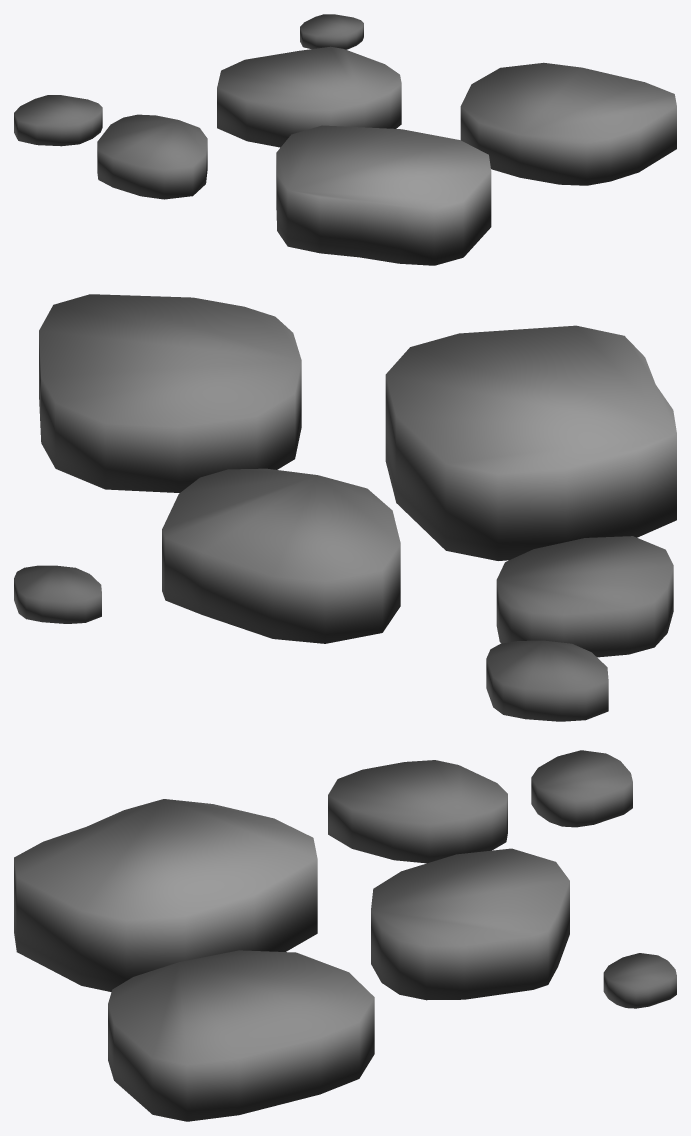
The model's file is obj_PathStraight2Grey.fbx.
3 renders of one model, top to bottom at view 1: azimuth 30°, elevation 25°; view 2: azimuth 150°, elevation 25°; view 3: azimuth 270°, elevation 25°, orthographic. The views are drawn at different scales.
Visible parts, largest first — view 1: obj_PathStraight2Grey; view 2: obj_PathStraight2Grey; view 3: obj_PathStraight2Grey.
Boxes of the visible parts, x1=… form: obj_PathStraight2Grey: x1=14, y1=14, x2=676, y2=265; obj_PathStraight2Grey: x1=14, y1=294, x2=676, y2=721; obj_PathStraight2Grey: x1=14, y1=750, x2=676, y2=1121.
Bounding box in the file's own units: 805 × 85.29 × 683.
